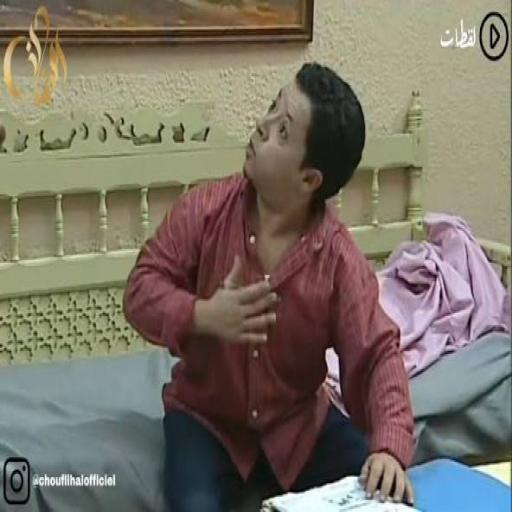fouchika: (244, 62, 365, 205)
